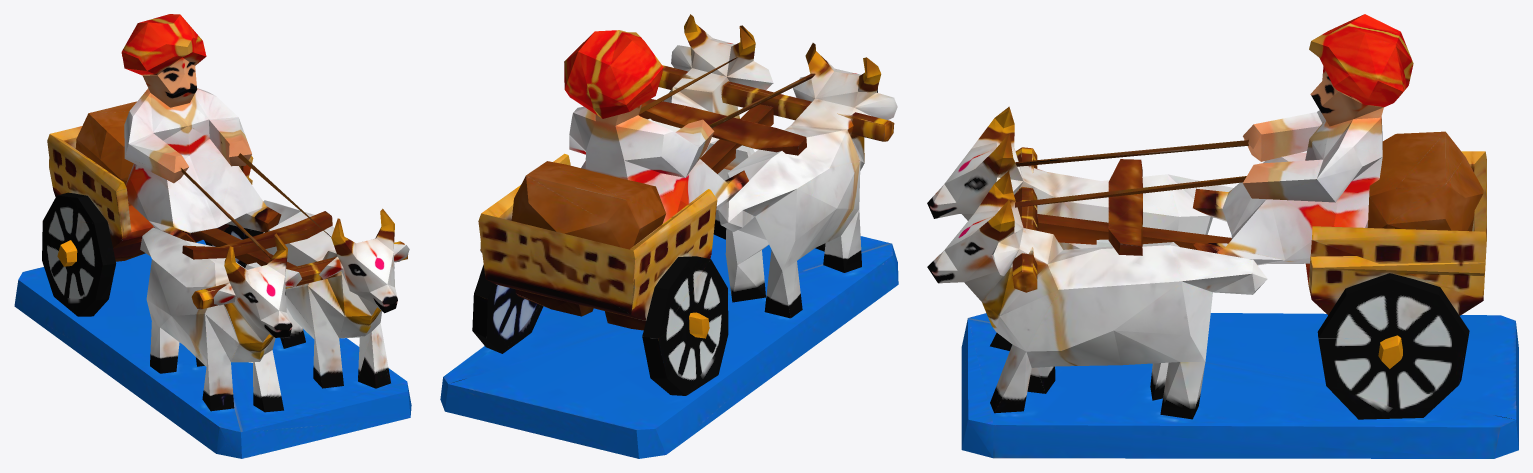
The model's file is Bullock cart.glb.
The picture shows the model from 3 angles, left to right: view 1: azimuth 30°, elevation 25°; view 2: azimuth 150°, elevation 25°; view 3: azimuth 270°, elevation 25°; orthographic projection. The views are drawn at different scales.
Visible parts, largest first — view 1: mesh_000; view 2: mesh_000; view 3: mesh_000.
Part boxes in pixels (bbox=[...]): mesh_000: bbox=[14, 14, 411, 458]; mesh_000: bbox=[440, 14, 898, 458]; mesh_000: bbox=[927, 14, 1518, 458].
Bounding box in the file's own units: 0.48 × 0.6694 × 0.9551.
1 material, 1 textured.
